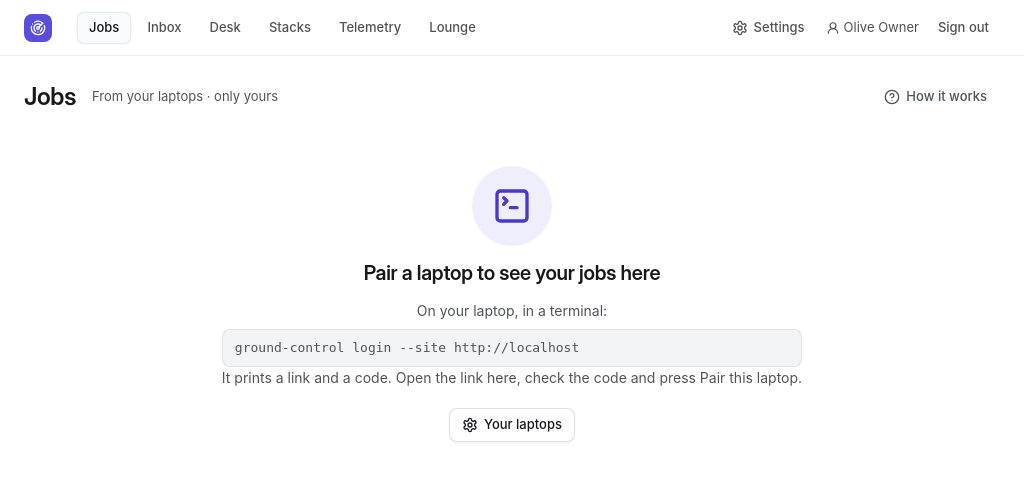
Test: the hosted site › Sign out ends the session and shows Sign in
The width and height of the screenshot is (1024, 485).
Check: the heading "Pair a laptop to see your jobs here" is shown, box [364,258,660,288]
Click the button "Sign out".
click(963, 28)  # box [927,14,1000,42]
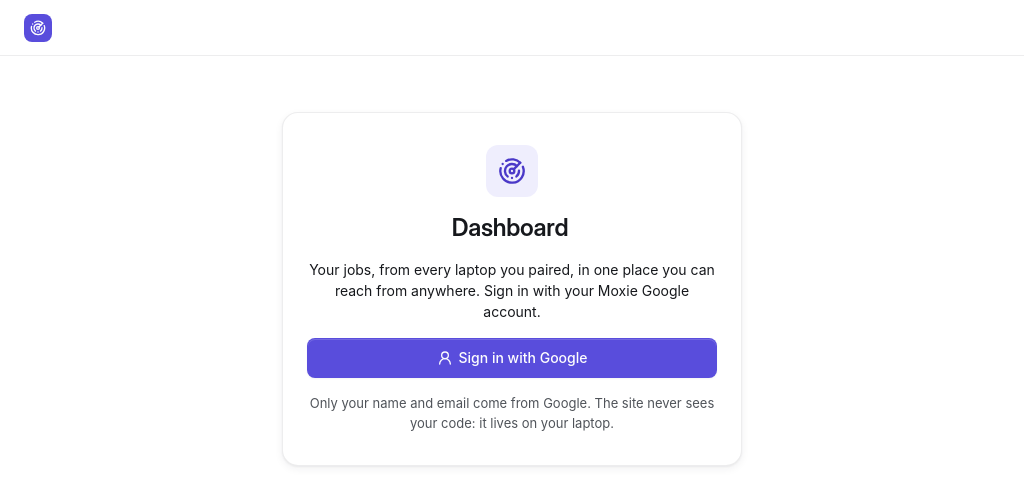
Check: the link "Sign in with Google" is shown, box [307,338,717,378]
